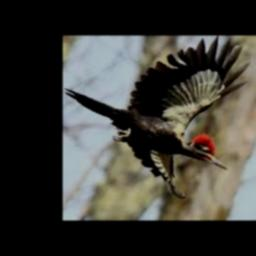Woodpecker: (64, 35, 250, 197)
